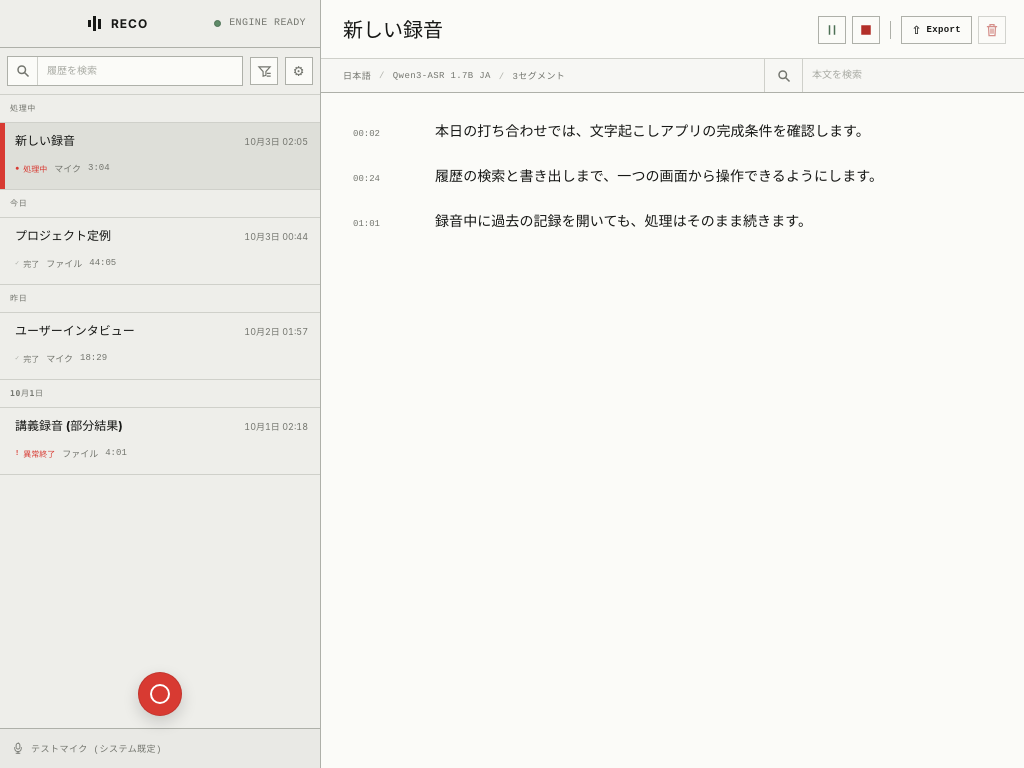
Scenario: RecoGUI › renders typed native command errors without object coercion
expect the heading "新しい録音" is shown: met, box [343, 18, 443, 42]
Step 1. Click the button named "設定を開く" → (299, 71), box [285, 57, 313, 85]
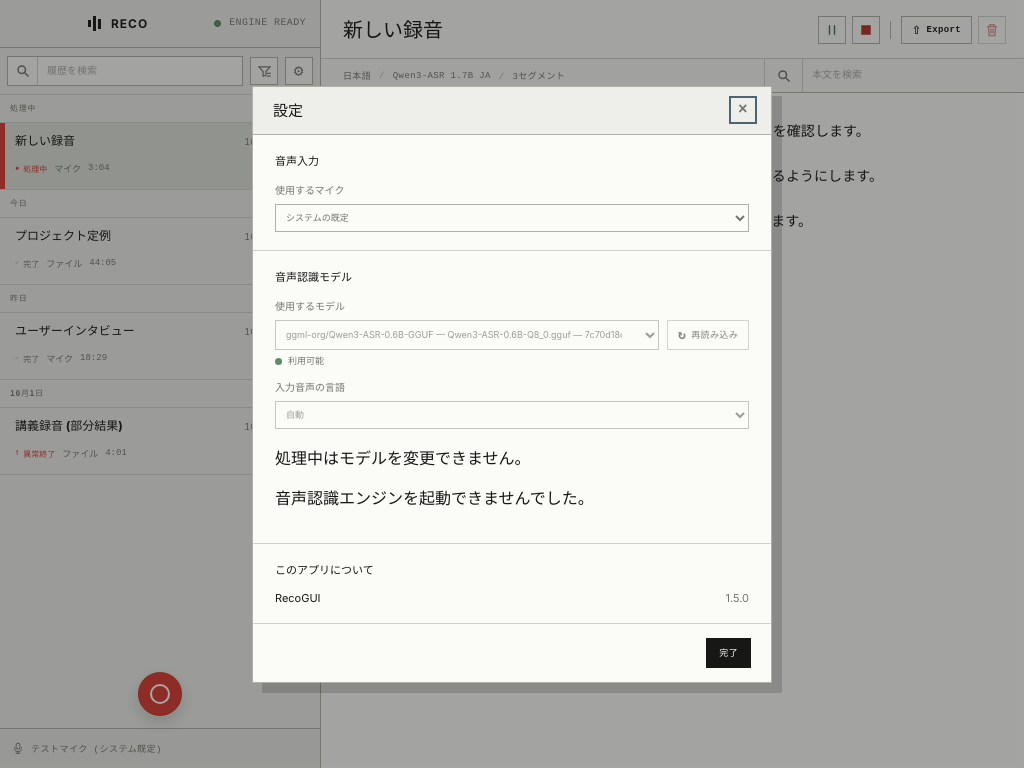
expect the text "音声認識エンジンを起動できませんでした。" is shown: met, box [275, 488, 594, 508]
